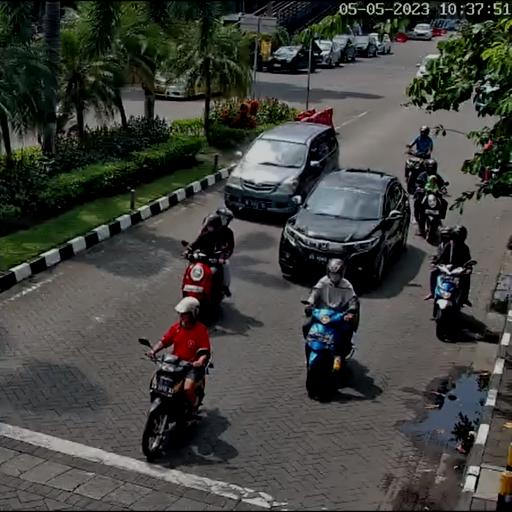mobil: (281, 168, 415, 287), (225, 123, 340, 218)
motor: (136, 335, 214, 465), (300, 298, 356, 396), (178, 240, 235, 322), (427, 260, 476, 343), (412, 184, 450, 244), (402, 144, 436, 192)
